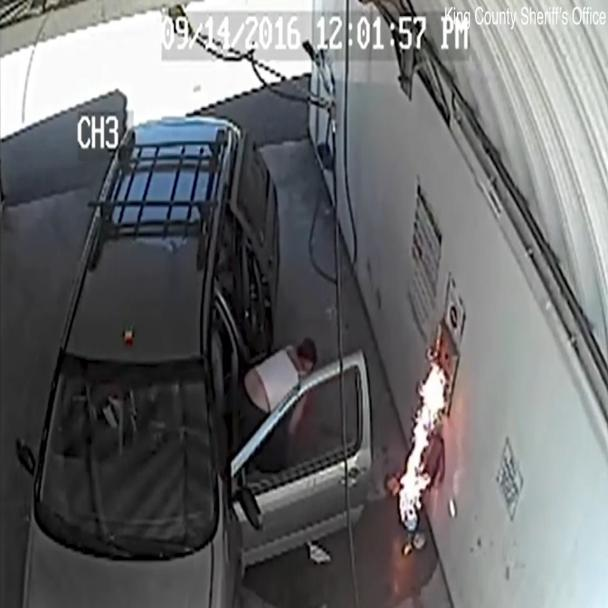Fire: (395, 295, 468, 607)
